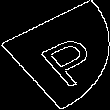P_NW: (14, 23, 96, 87)
